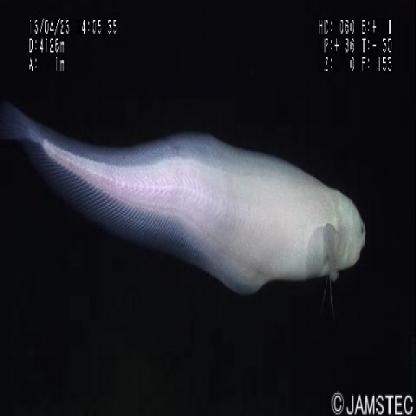Bio: (2, 97, 368, 305)
